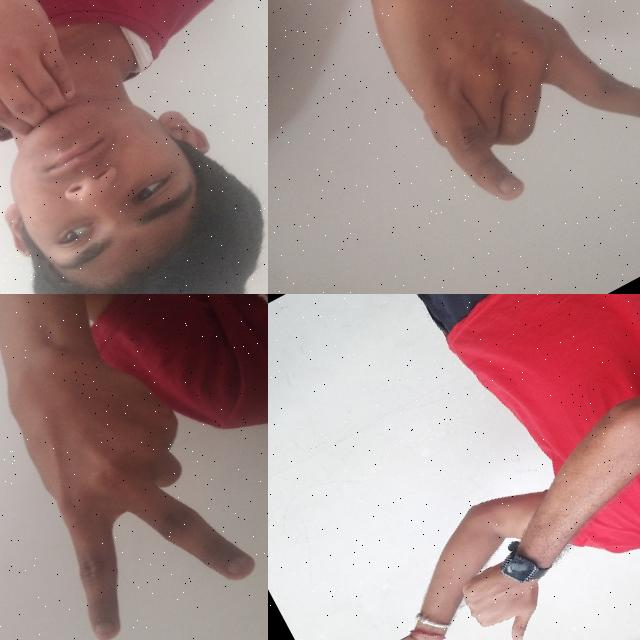Chin Flick: (0, 0, 268, 294)
Corna: (330, 0, 640, 243)
Reversed Victory: (0, 294, 268, 640)
Thumbs Up: (443, 540, 570, 640), (350, 615, 463, 640)
